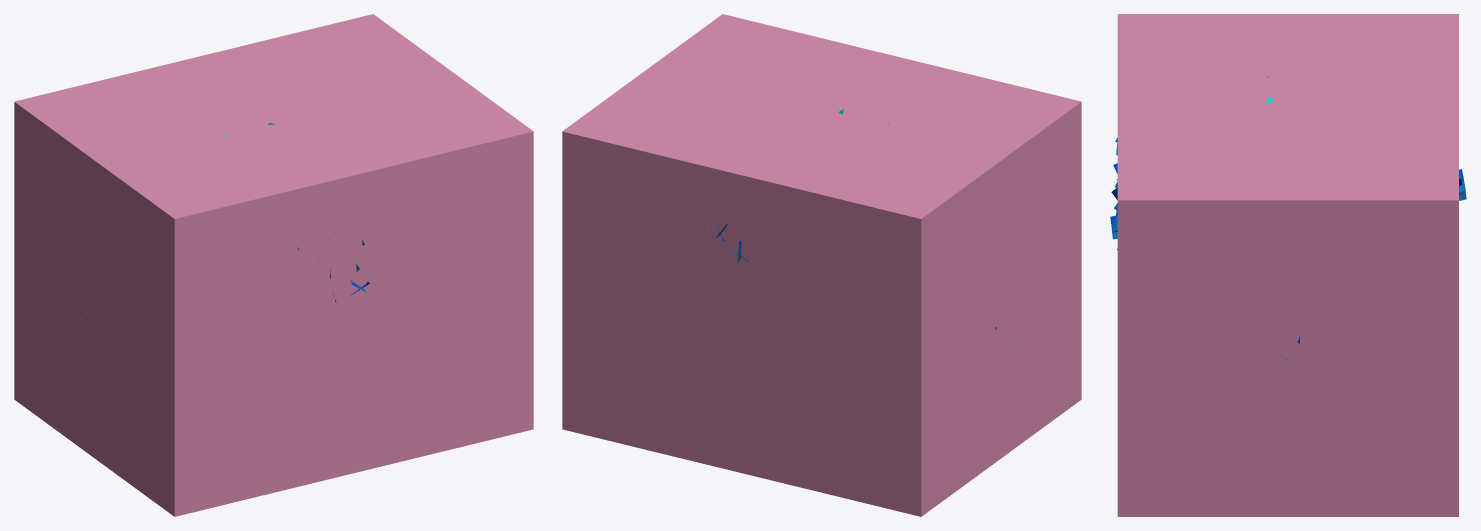
The model's file is tree_beech_large_b.dae.
3 views of the same model, side by side, from view 1: azimuth 30°, elevation 25°; view 2: azimuth 150°, elevation 25°; view 3: azimuth 270°, elevation 25° (orthographic). The views are drawn at different scales.
Parts seen in each view (by area): view 1: Untitled; view 2: Untitled; view 3: Untitled.
Boxes of the visible parts, x1,y1,x2,y2 form: Untitled: (14,14,533,516); Untitled: (562,14,1081,516); Untitled: (1117,14,1458,516).
Bounding box in the file's own units: 21.17 × 16.87 × 16.88.
